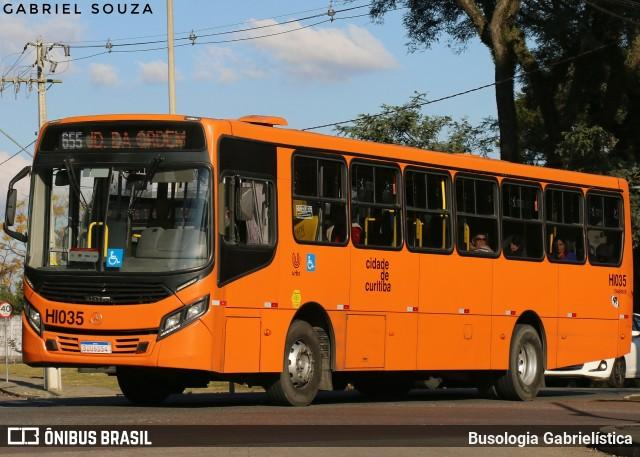JD DA ORDEM: (84, 125, 191, 152)
